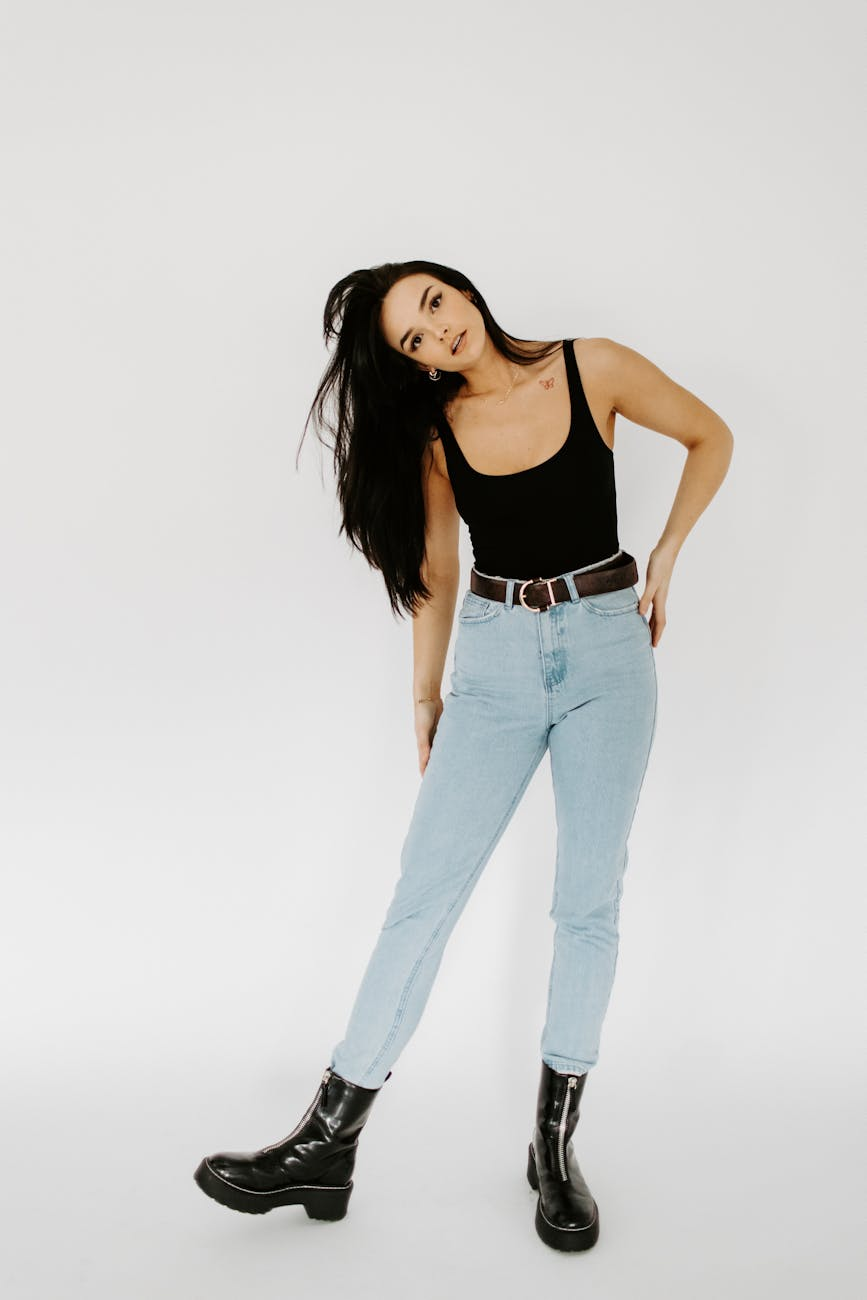sleeveless_top: (413, 334, 635, 572)
